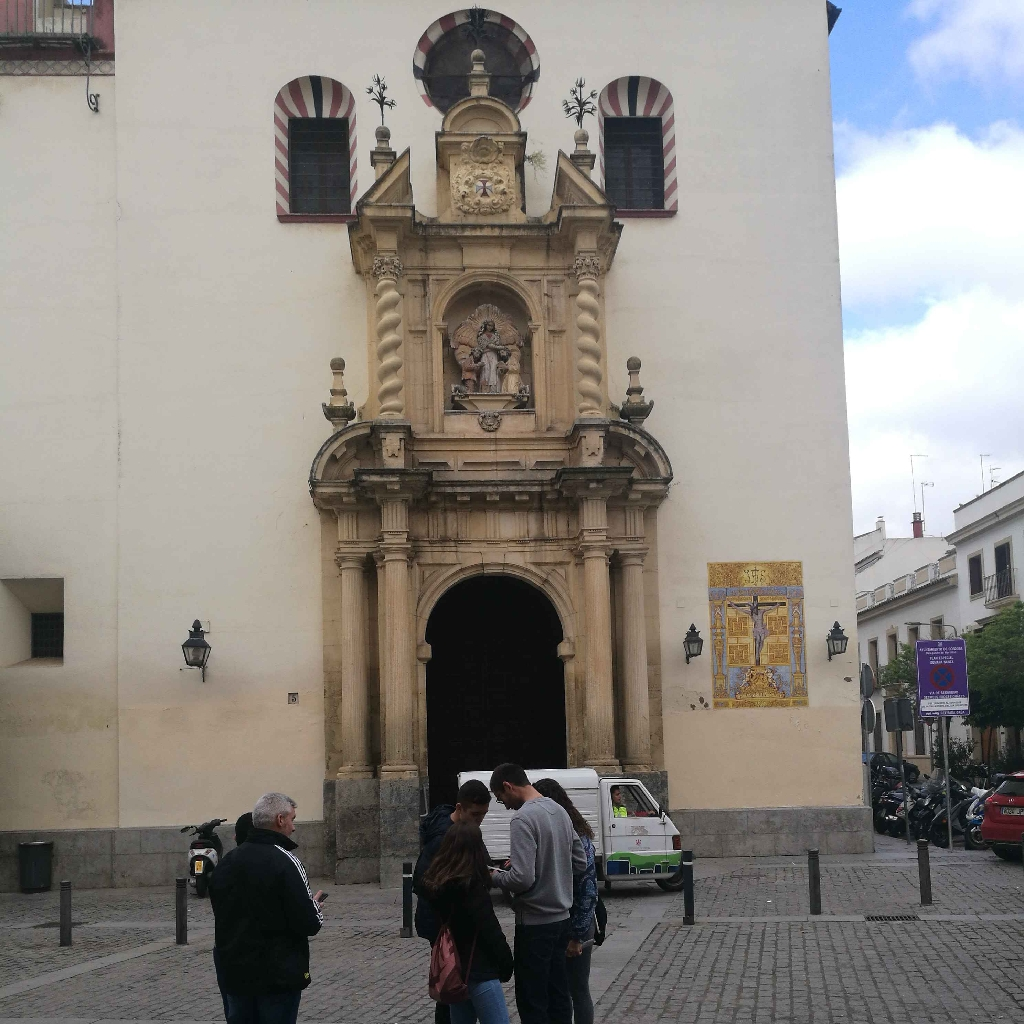arco-medio-punto: (415, 561, 574, 668), (436, 272, 540, 336)
columna-salomonica: (568, 276, 610, 409), (369, 271, 406, 413)
fronton-partido: (305, 410, 665, 490), (346, 152, 609, 229)
